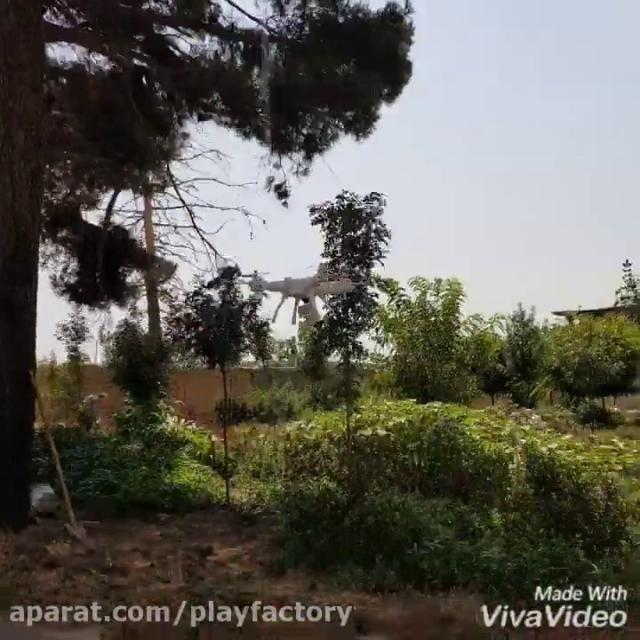drone: (234, 258, 368, 324)
